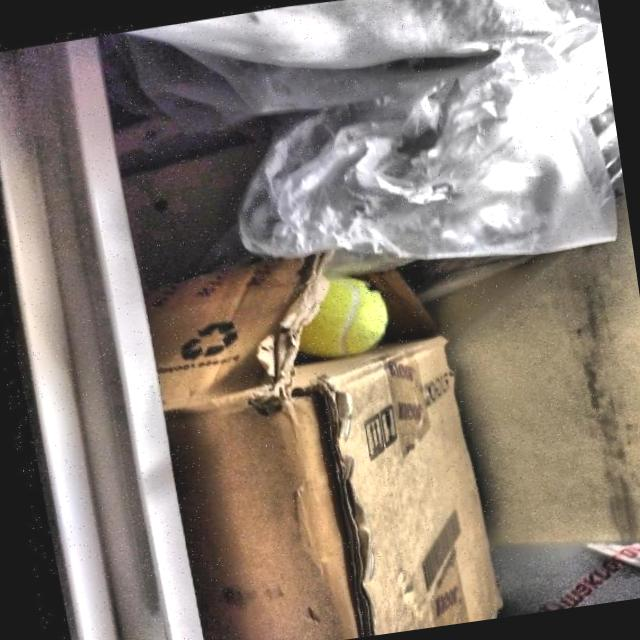Tennis Ball: (290, 271, 389, 362)
